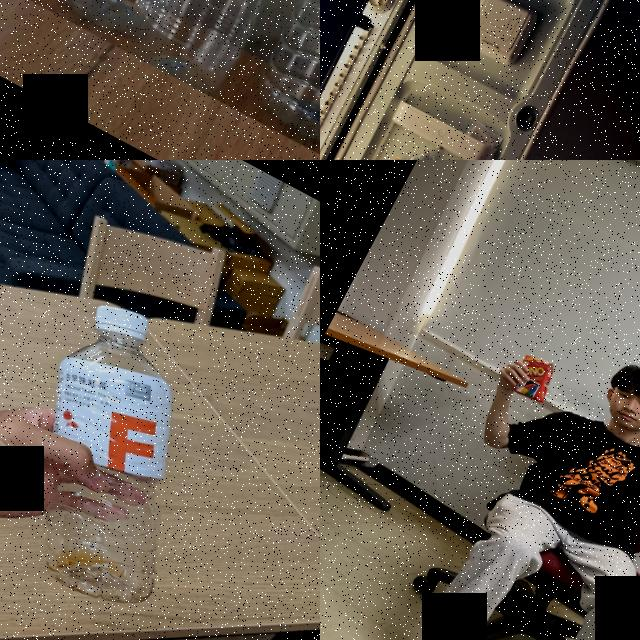bottle: (0, 289, 268, 626), (115, 0, 320, 98), (235, 0, 320, 157), (38, 0, 320, 46), (325, 120, 446, 160)
